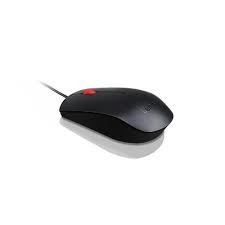mouse: (58, 88, 173, 142)
